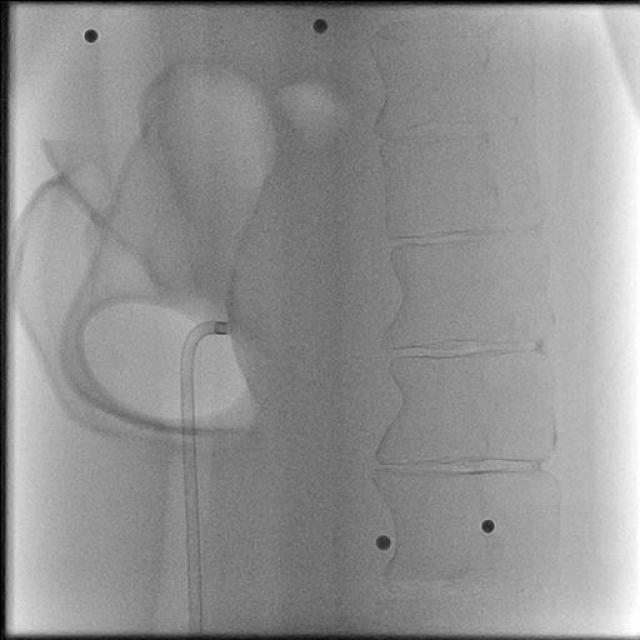bend: (179, 352, 193, 362)
entry: (189, 628, 201, 634)
marker: (213, 320, 227, 335)
tip: (226, 323, 236, 335)
